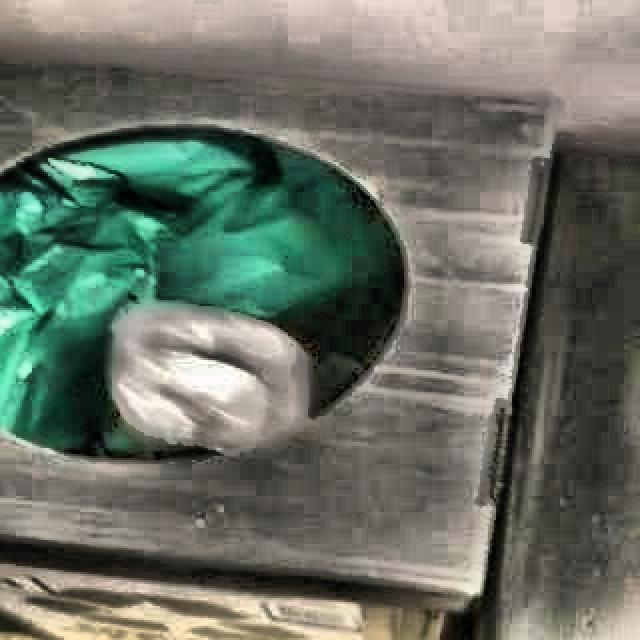metal: (107, 306, 309, 453)
